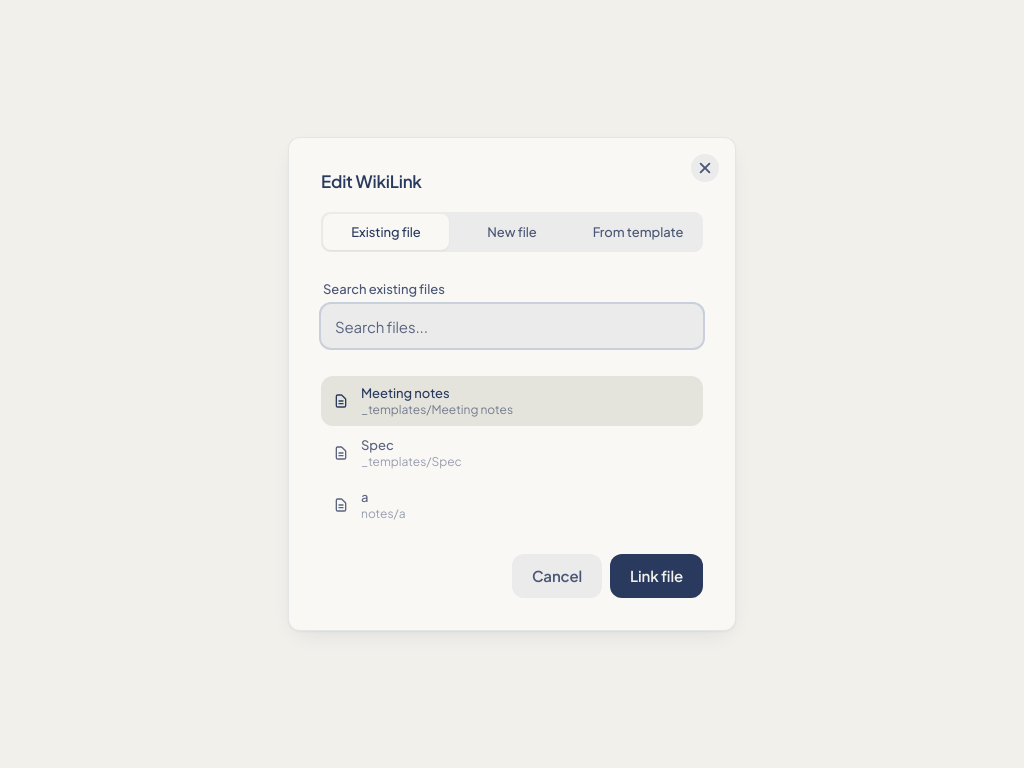
Test: WikiLinkDialog, From template › preselects the template the name points to, carrying over the typed name
Type "Meeting notes 2026-10-05" into the field labelled "Search existing files".
click(512, 326); type("Meeting notes 2026-10-05")  # box x1=321 y1=304 x2=703 y2=348
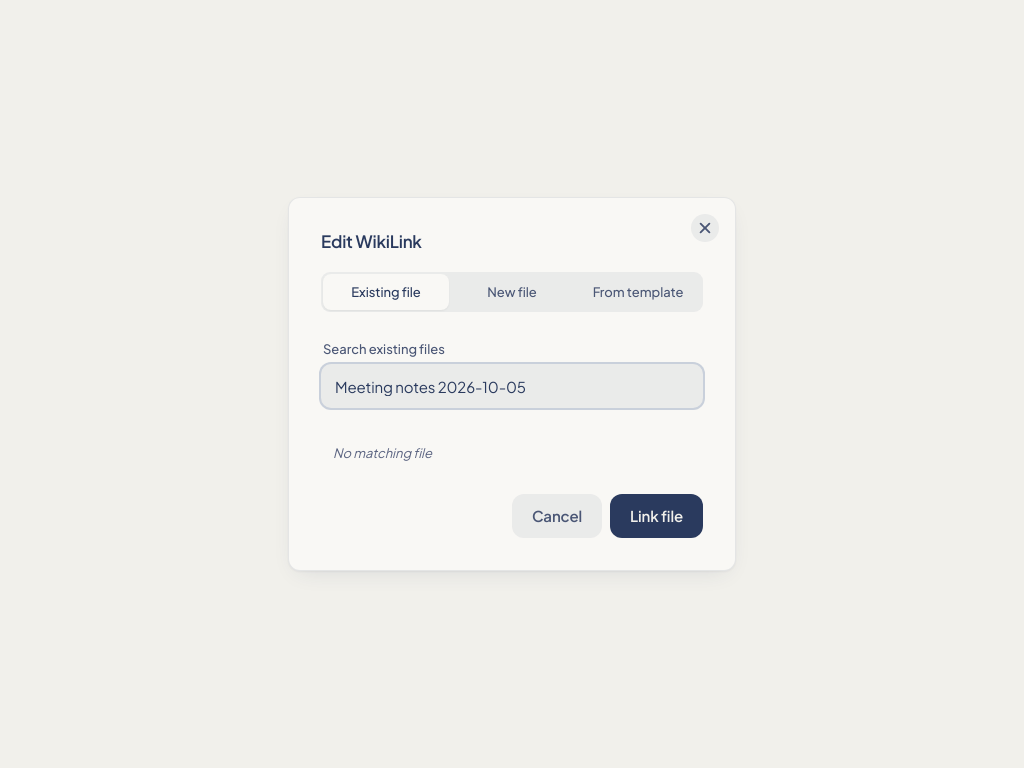
Click the tab "From template".
click(638, 292)  # box x1=575 y1=274 x2=701 y2=310
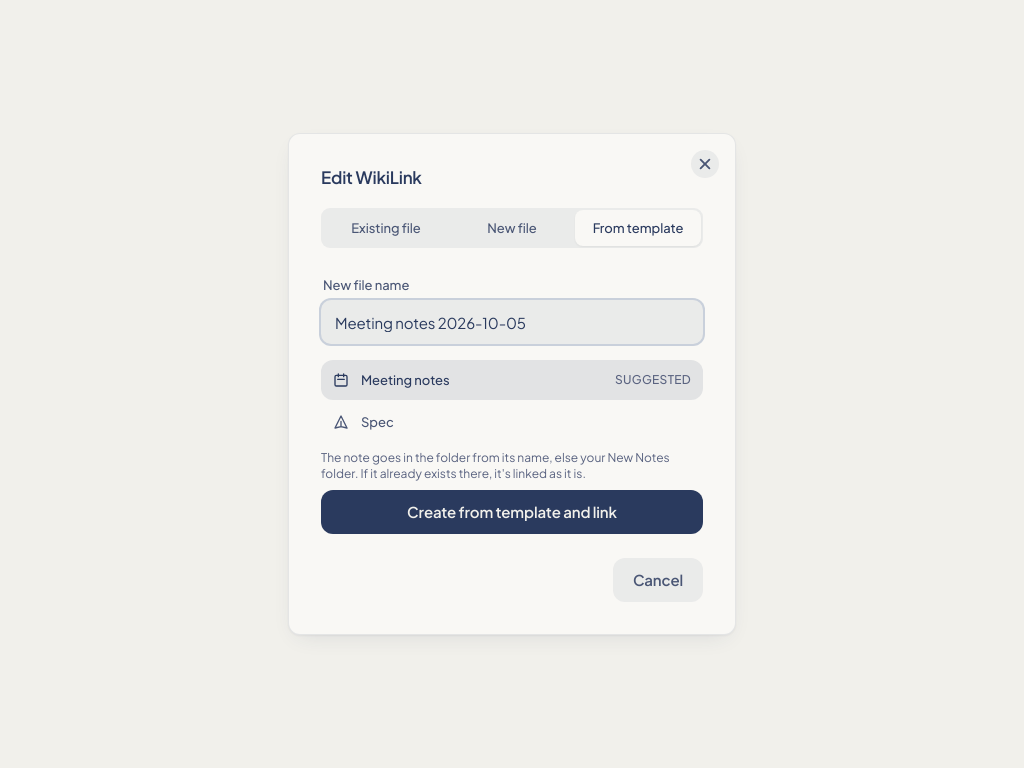
Check: the field labelled "New file name" holds "Meeting notes 2026-10-05", box x1=321 y1=300 x2=703 y2=344
Check: the text "Suggested" is shown, box x1=615 y1=372 x2=691 y2=388
